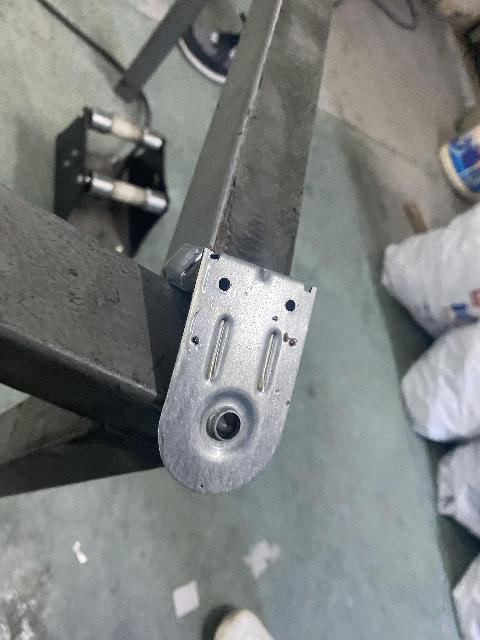Cam: (156, 242, 319, 496)
